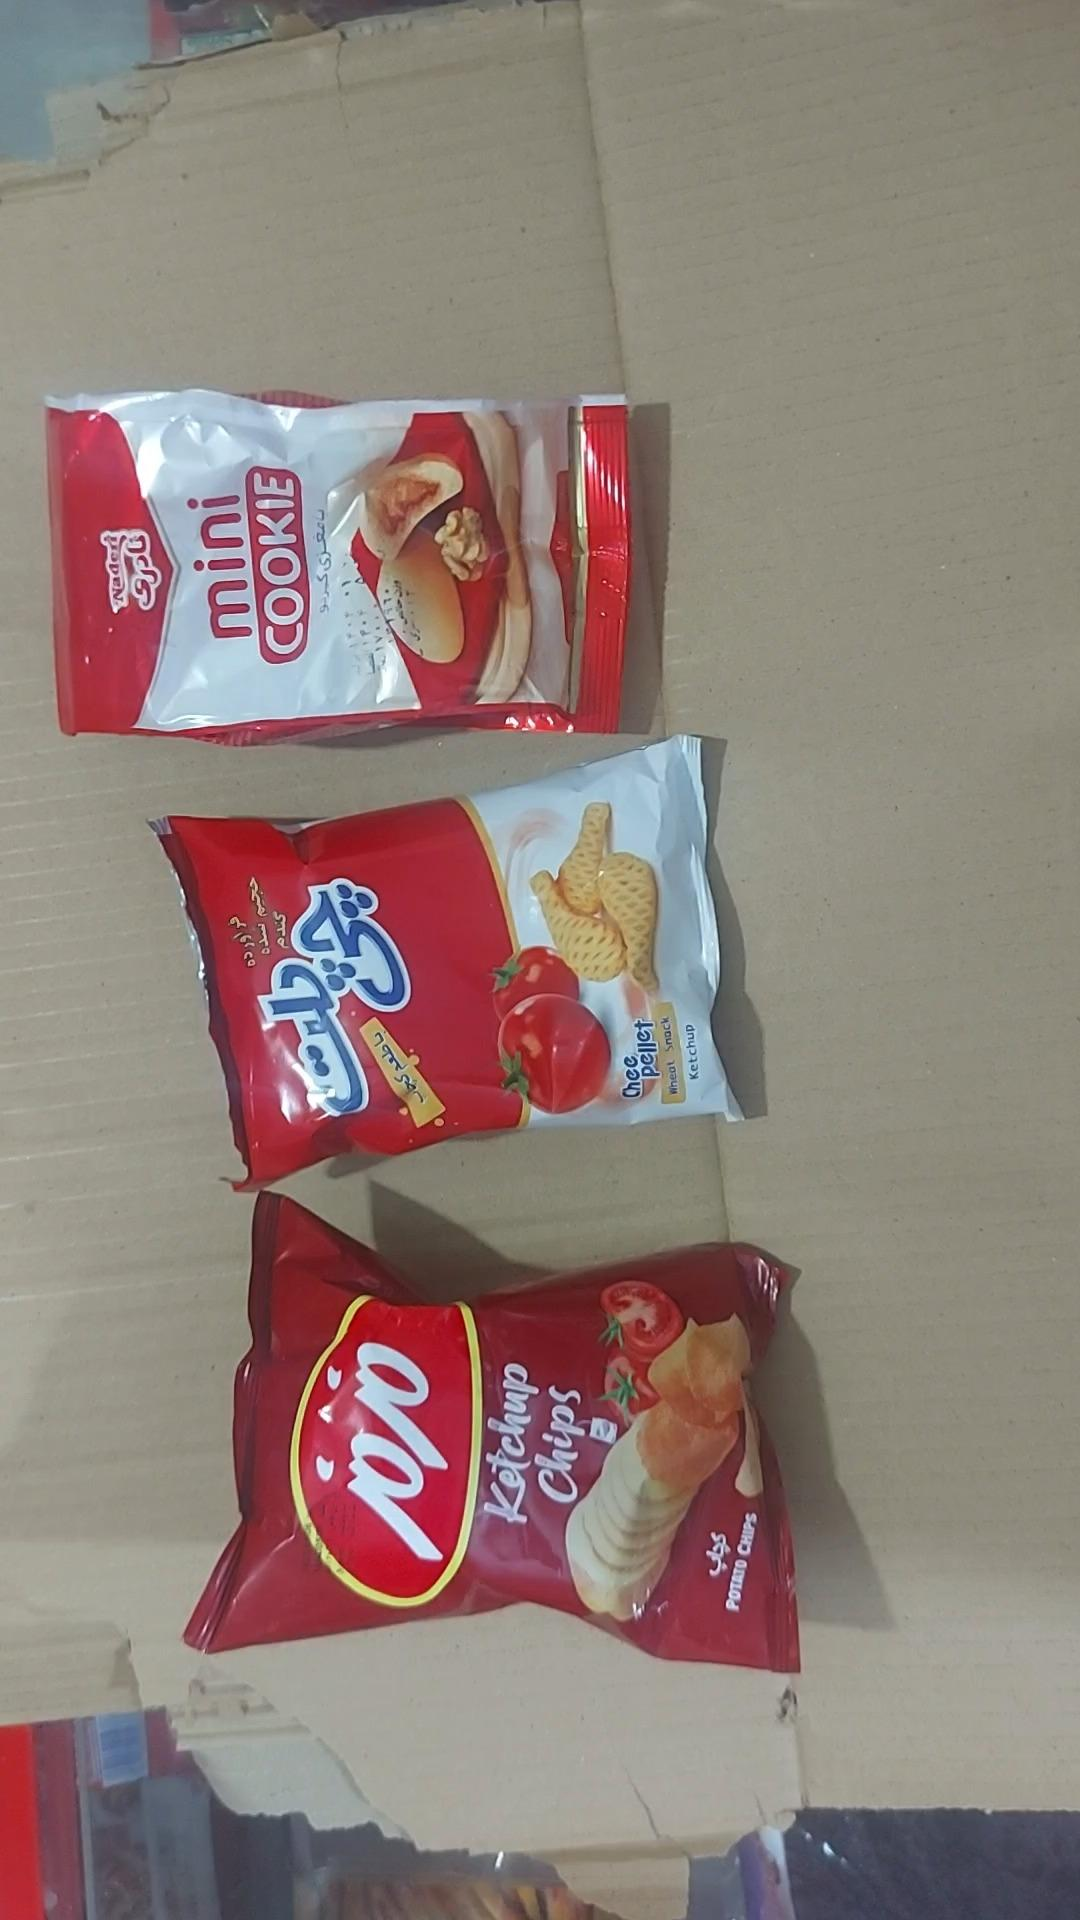Chee pellet ketchup: (150, 736, 744, 1193)
Maz Maz ketchup chips: (181, 1193, 802, 1677)
Naderi mini cookie: (44, 389, 636, 748)
